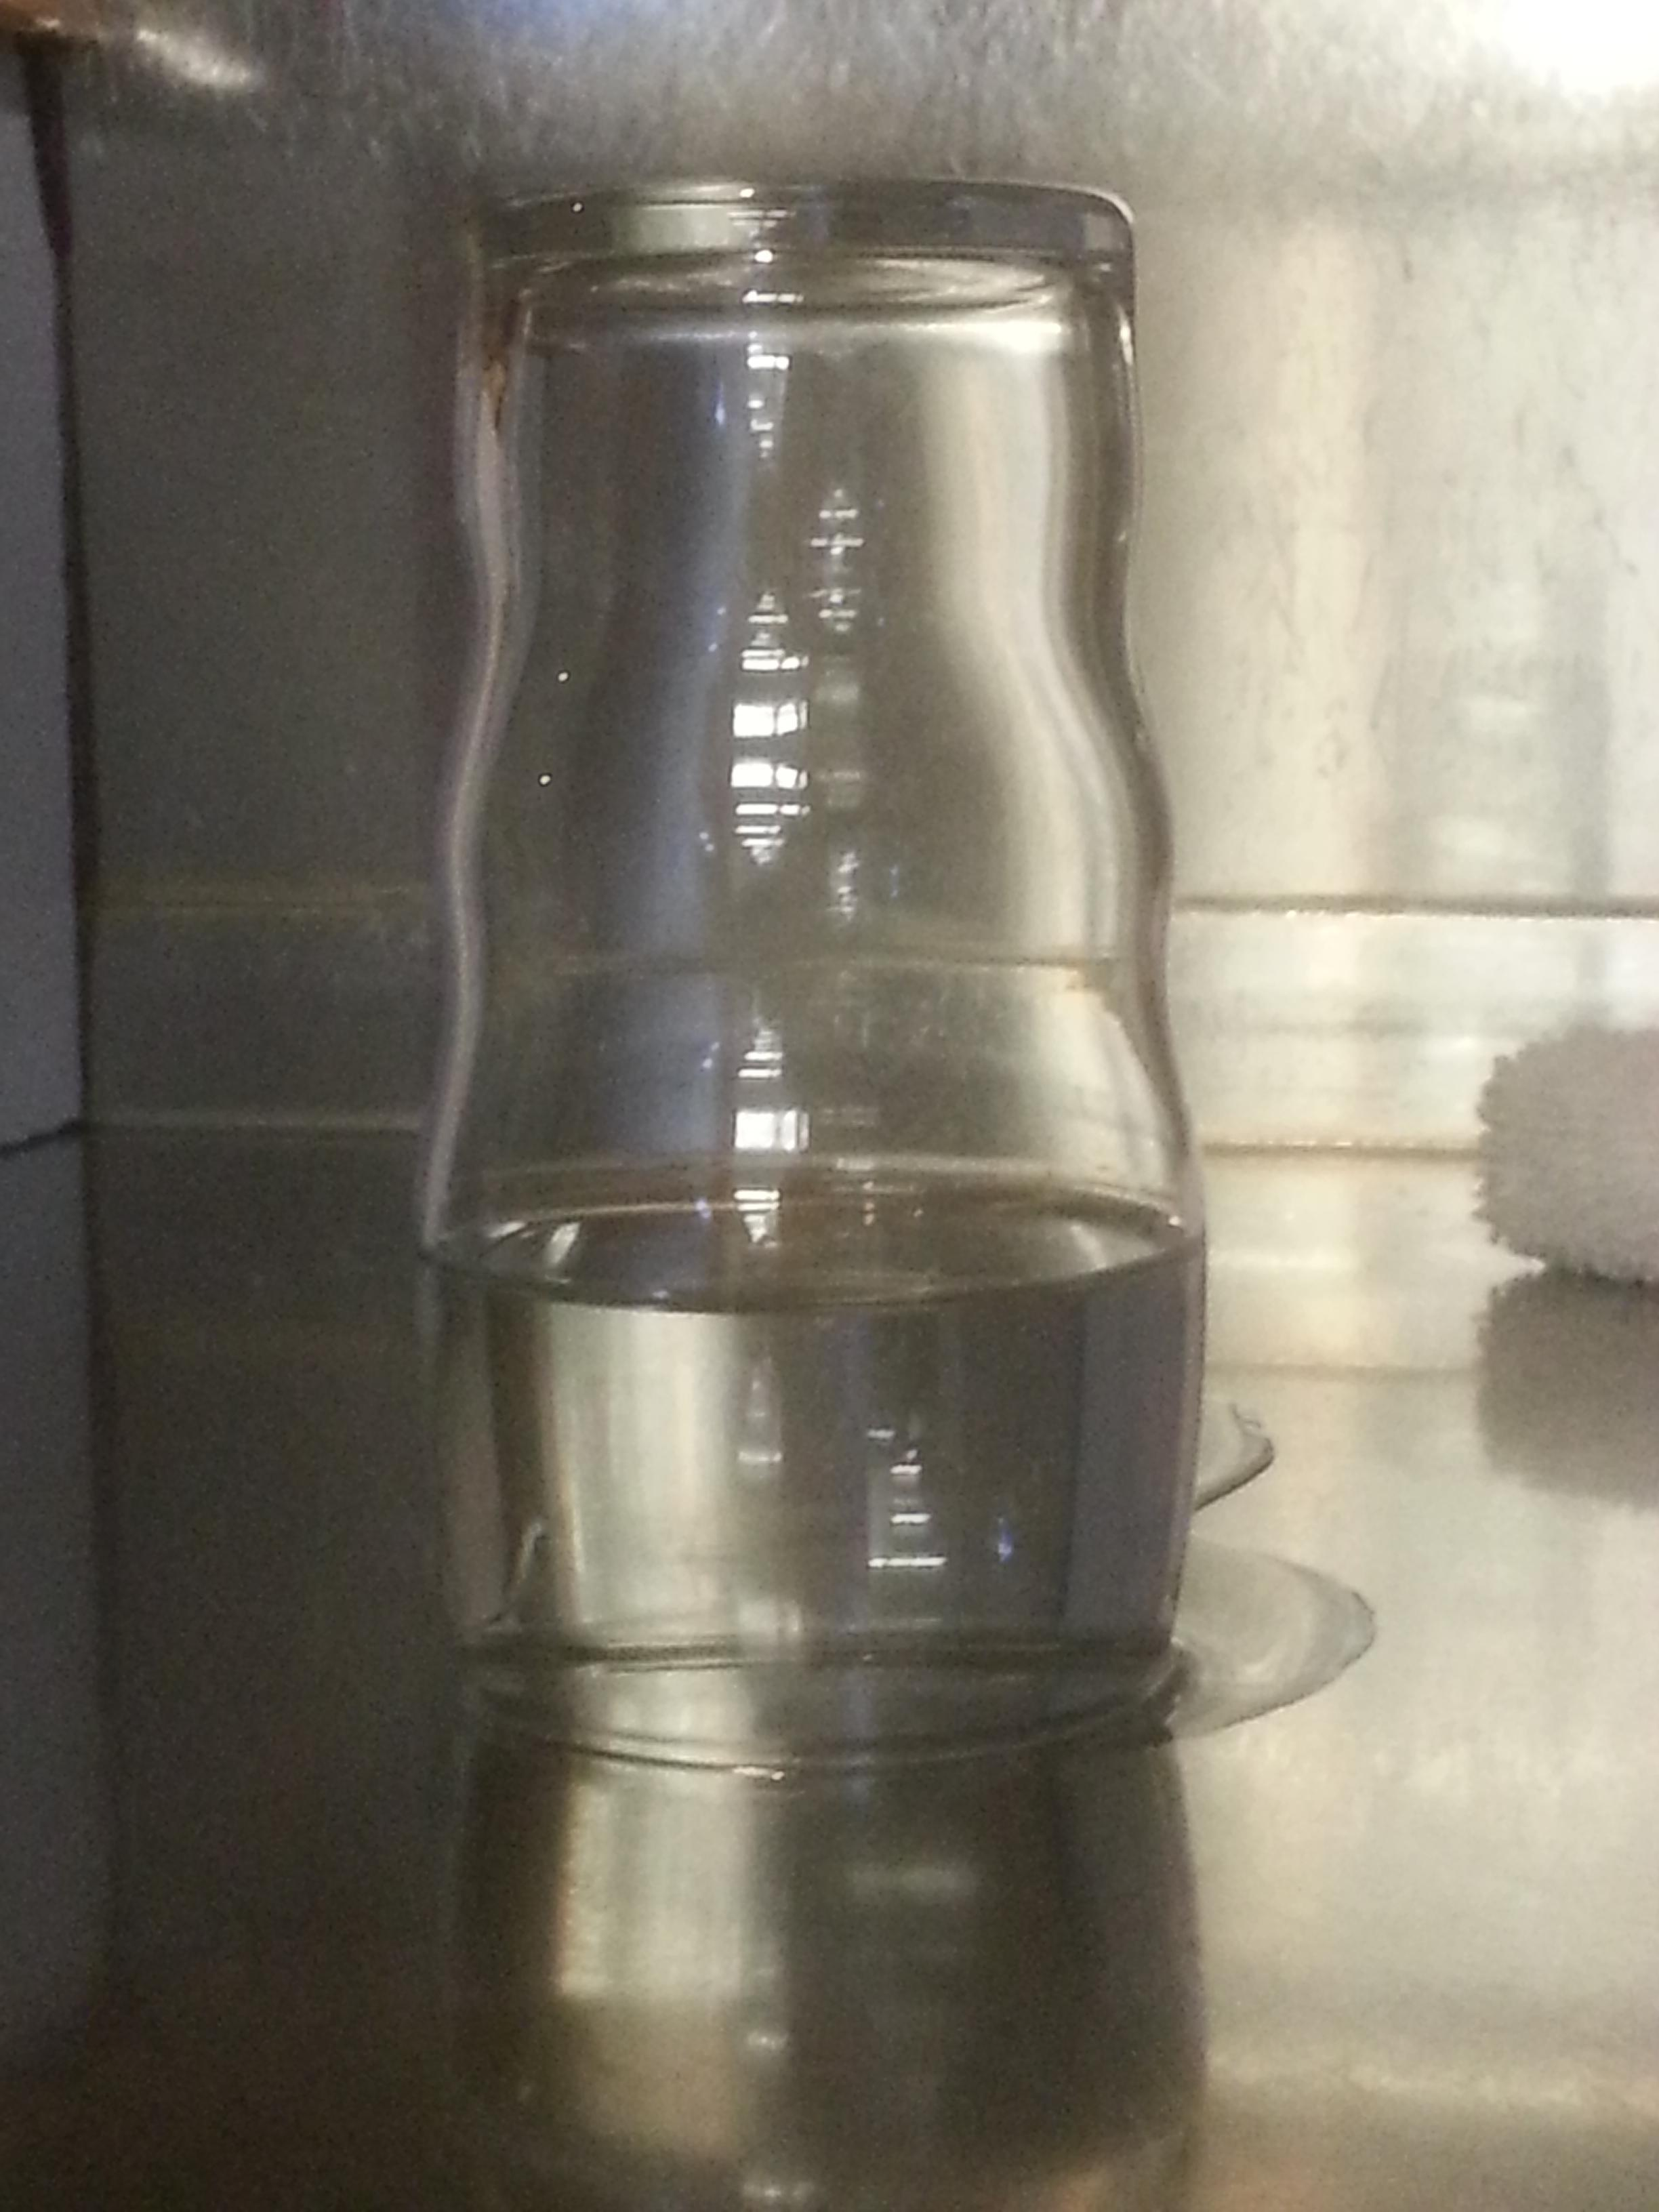glass of water: (427, 190, 1204, 1757)
